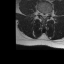CCS_normal: (43, 11, 45, 20)
LFS_normal: (47, 10, 49, 18)
LLS_normal: (45, 11, 47, 19)
RFS_normal: (39, 9, 41, 17)
RLS_normal: (41, 11, 43, 19)
